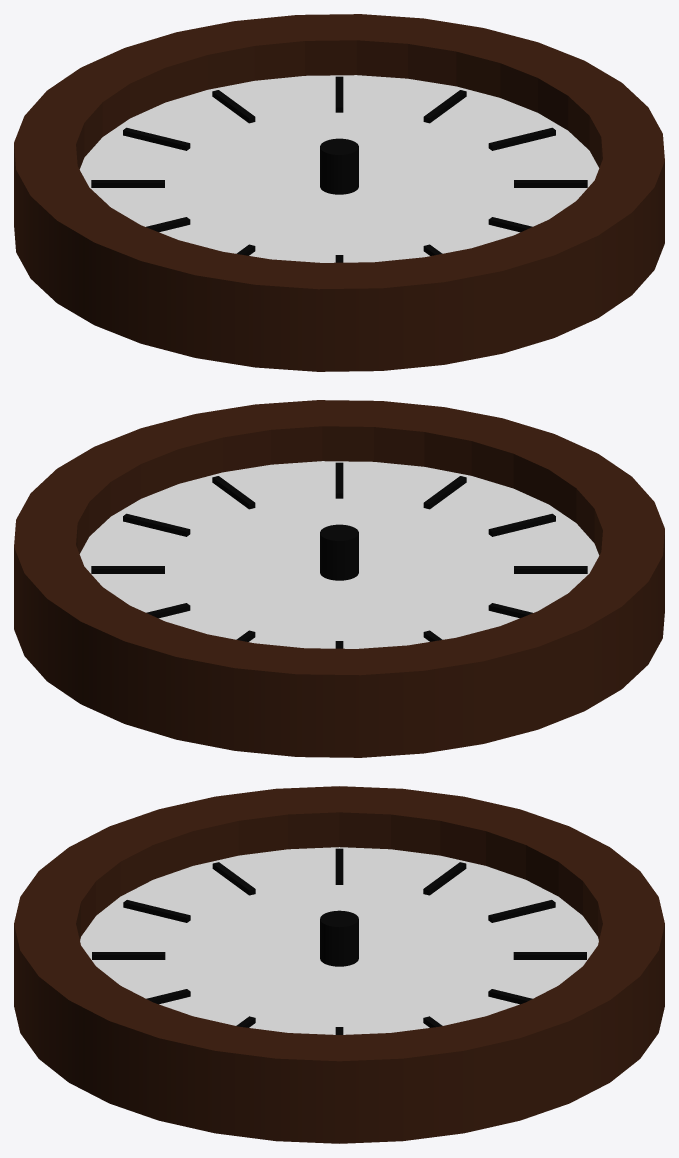
File: KelloTaulu2.fbx
3 renders of one model, top to bottom at view 1: azimuth 30°, elevation 25°; view 2: azimuth 150°, elevation 25°; view 3: azimuth 270°, elevation 25°, orthographic.
Parts seen in each view (by area): view 1: Cylinder.001; view 2: Cylinder.001; view 3: Cylinder.001.
Boxes of the visible parts, box(x1,y1,x2,y2) form: Cylinder.001: box(14, 14, 664, 371); Cylinder.001: box(14, 400, 664, 757); Cylinder.001: box(14, 786, 664, 1143).
Bounding box in the file's own units: 247 × 36.56 × 247.
